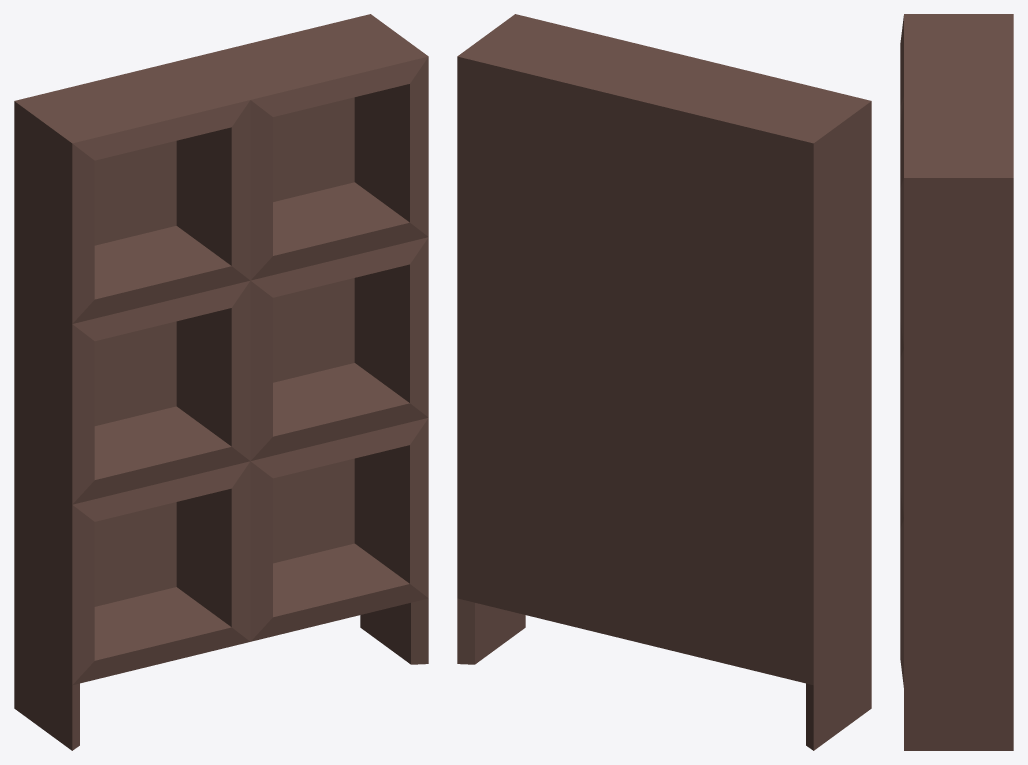
The model's file is Regal4x2eckig.fbx.
3 renders of one model, left to right at view 1: azimuth 30°, elevation 25°; view 2: azimuth 150°, elevation 25°; view 3: azimuth 270°, elevation 25°, orthographic. The views are drawn at different scales.
Visible parts, largest first — view 1: Regal4x2; view 2: Regal4x2; view 3: Regal4x2.
Boxes of the visible parts, x1,y1,x2,y2 form: Regal4x2: [14, 14, 428, 750]; Regal4x2: [457, 14, 871, 750]; Regal4x2: [900, 14, 1013, 750].
Bounding box in the file's own units: 322 × 524 × 93.72.
